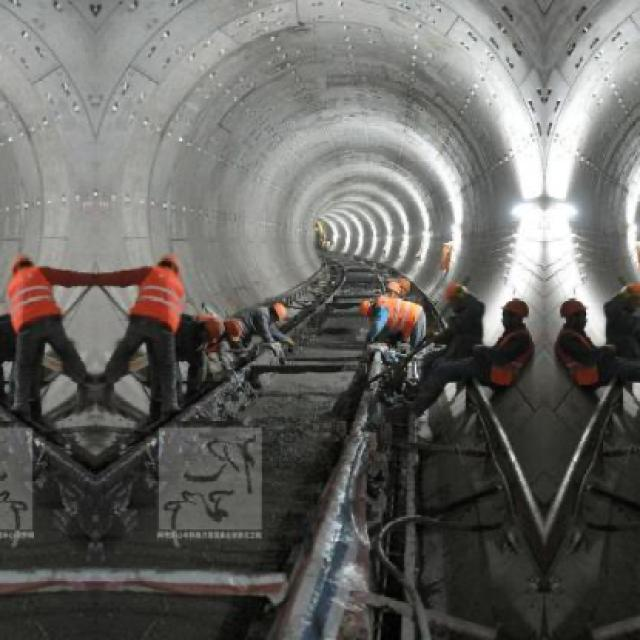con casco: (483, 297, 535, 332), (255, 291, 308, 325), (562, 293, 597, 332)
